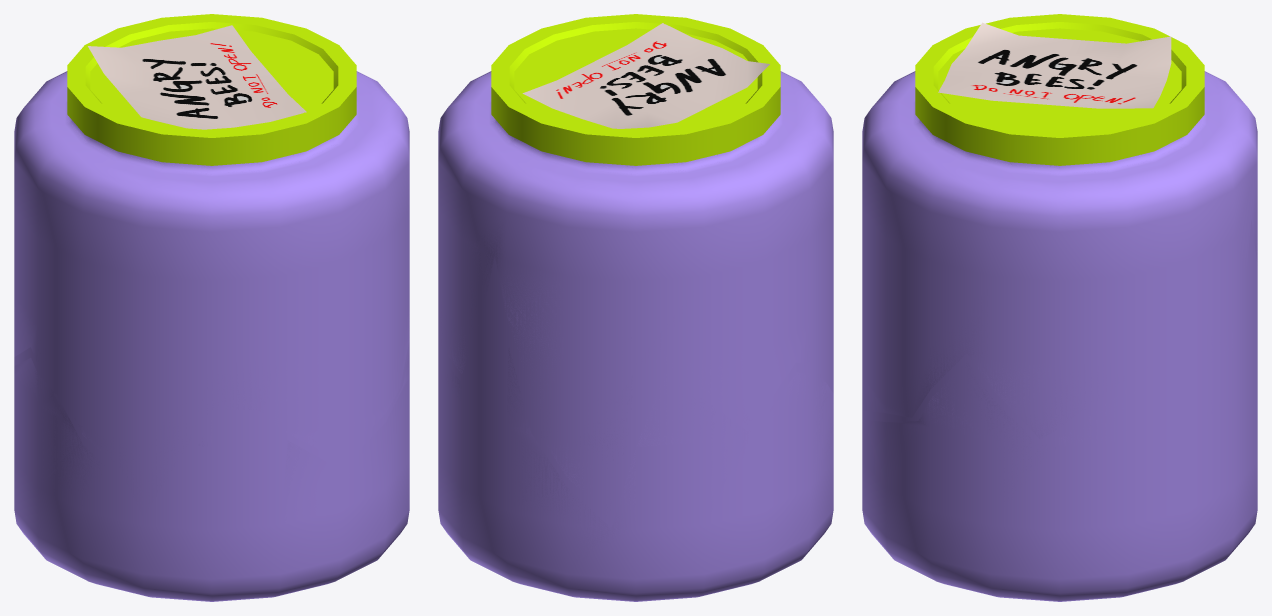
File: AngryBeeJar.FBX
3 renders of one model, left to right at view 1: azimuth 30°, elevation 25°; view 2: azimuth 150°, elevation 25°; view 3: azimuth 270°, elevation 25°, orthographic.
Parts seen in each view (by area): view 1: Jar_Unbroken, Jar_Lid, Jar_BrokenTop, Jar_BrokenBot; view 2: Jar_Unbroken, Jar_Lid, Jar_BrokenTop, Jar_BrokenBot; view 3: Jar_Unbroken, Jar_Lid, Jar_BrokenTop, Jar_BrokenBot.
Boxes of the visible parts, x1,y1,x2,y2 form: Jar_Unbroken: [14, 71, 409, 601]; Jar_Lid: [67, 14, 356, 165]; Jar_BrokenTop: [14, 72, 409, 517]; Jar_BrokenBot: [14, 354, 409, 524]; Jar_Unbroken: [438, 71, 833, 601]; Jar_Lid: [491, 14, 780, 165]; Jar_BrokenTop: [438, 72, 833, 512]; Jar_BrokenBot: [439, 348, 833, 573]; Jar_Unbroken: [862, 71, 1257, 601]; Jar_Lid: [915, 14, 1204, 165]; Jar_BrokenTop: [862, 71, 1257, 438]; Jar_BrokenBot: [862, 361, 1233, 523].
Size of the model in its own units: 16.88 by 21.29 by 16.63.
3 materials, 1 textured.
